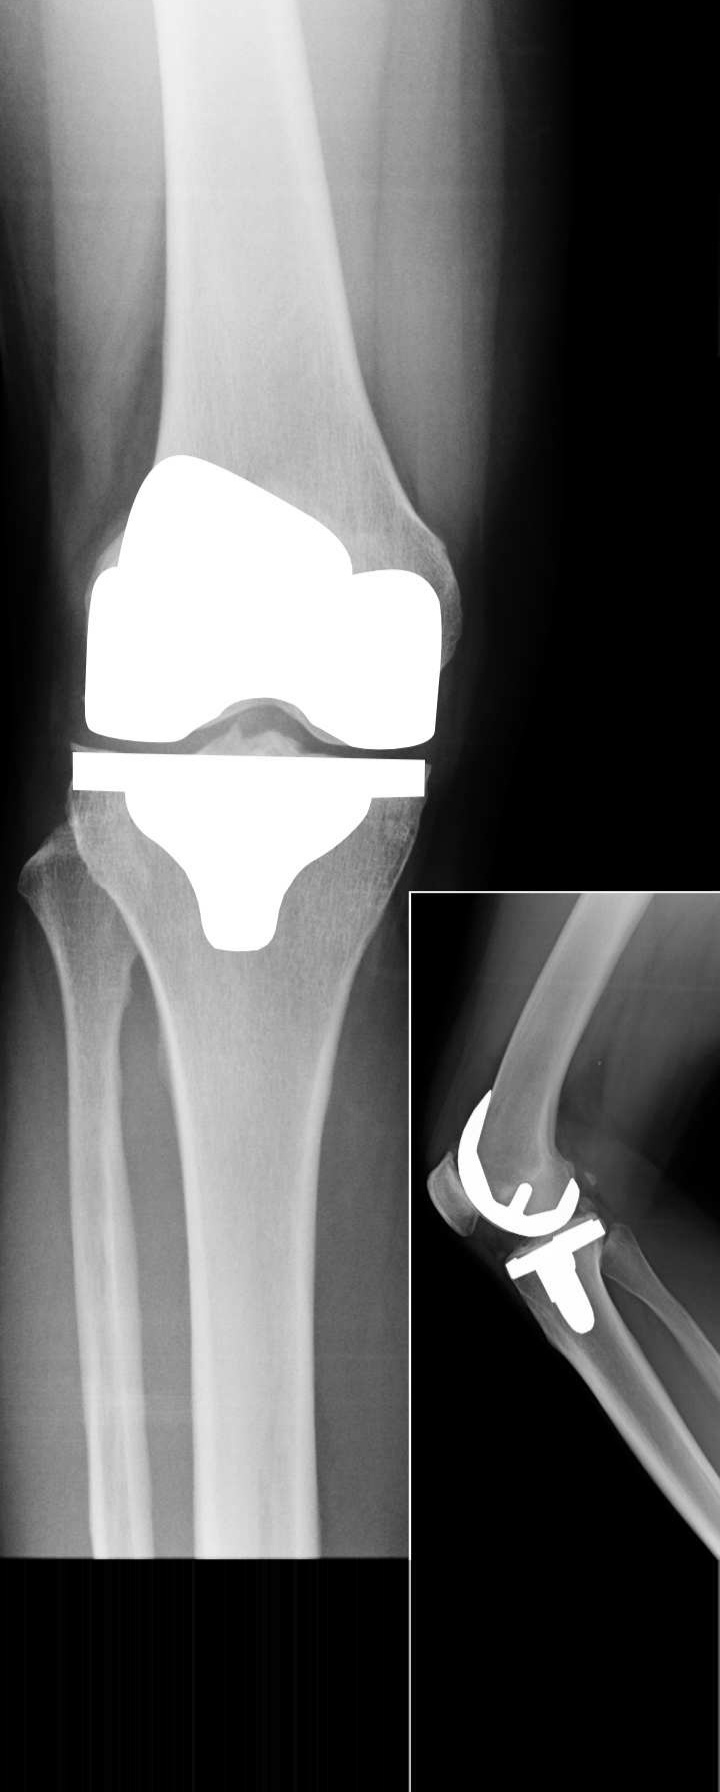Knee-Triathlon-Stryker: (77, 440, 446, 955), (451, 1083, 605, 1335)
